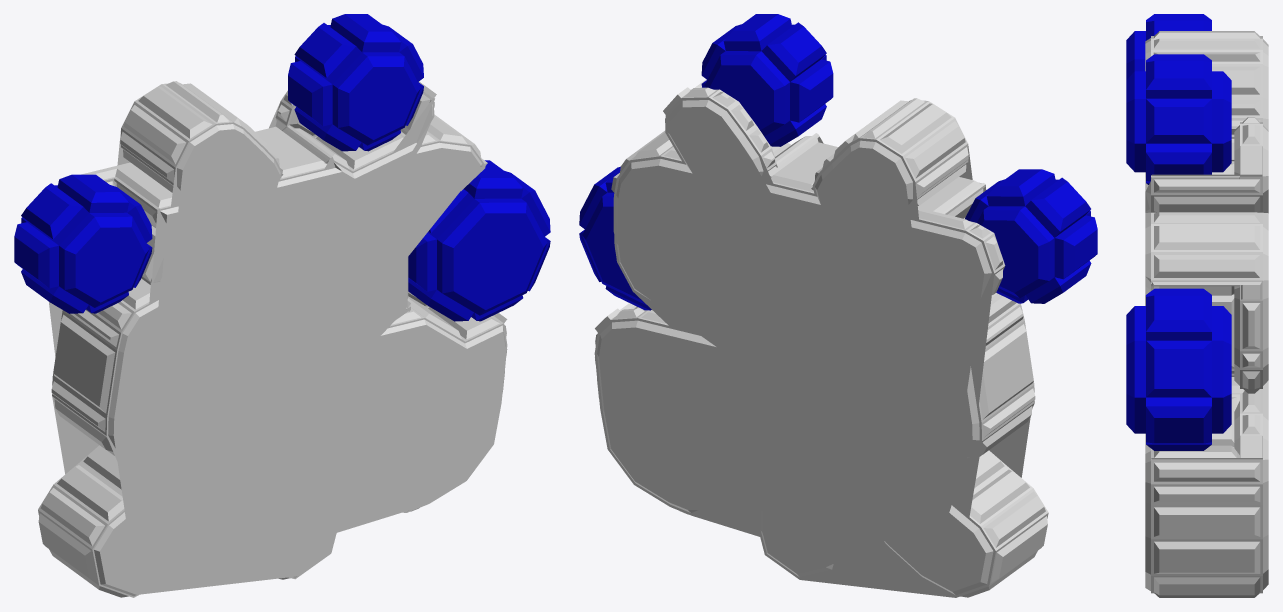
The model's file is Ch_China_弟_01.fbx.
The picture shows the model from 3 angles, left to right: view 1: azimuth 30°, elevation 25°; view 2: azimuth 150°, elevation 25°; view 3: azimuth 270°, elevation 25°; orthographic projection. The views are drawn at different scales.
Parts seen in each view (by area): view 1: sphere1; view 2: sphere1; view 3: sphere1.
Boxes of the visible parts, x1,y1,x2,y2 form: sphere1: (14,14,550,597); sphere1: (579,14,1097,597); sphere1: (1126,14,1268,597).
Bounding box in the file's own units: 1.08 × 1.07 × 0.2541.
